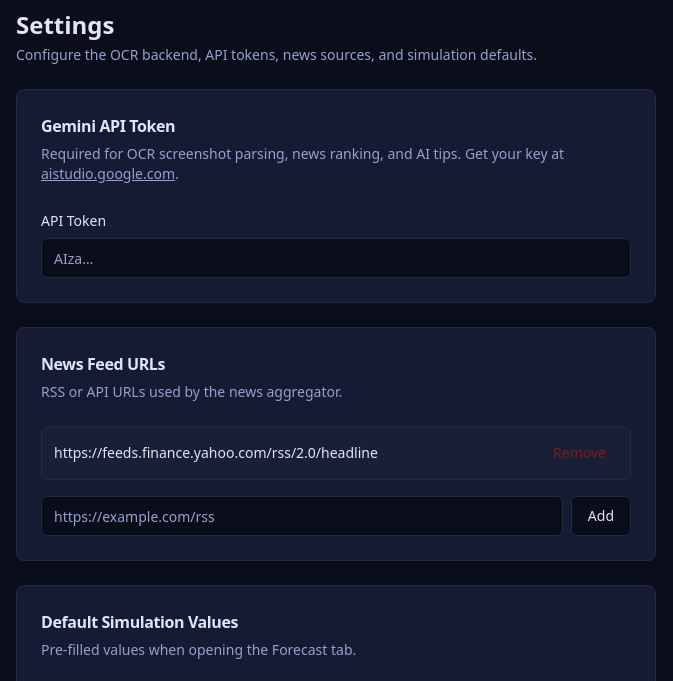
Test: SettingsPage › removes a news feed URL from the list when the Remove button is clicked
Check: the text "https://feeds.finance.yahoo.com/rss/2.0/headline" is shown, box [54,443,378,463]
Click the button "Remove" at x=580, y=453, box [541,435,618,471]
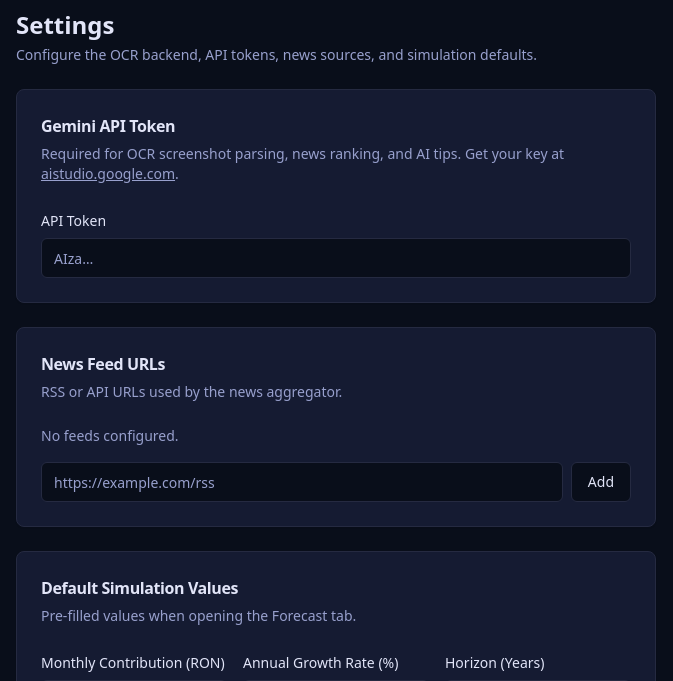
Check: the text "https://feeds.finance.yahoo.com/rss/2.0/headline" is gone
